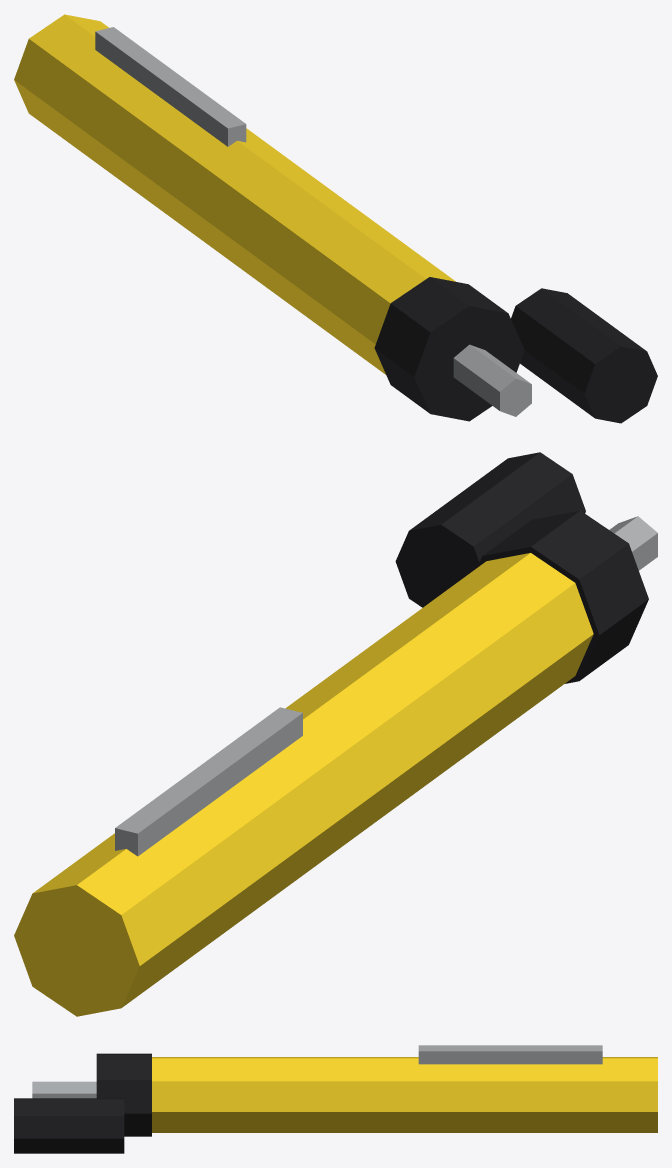
The model's file is dc.fibre-pen.glb.
The picture shows the model from 3 angles, top to bottom: view 1: azimuth 30°, elevation 25°; view 2: azimuth 150°, elevation 25°; view 3: azimuth 270°, elevation 25°; orthographic projection. The views are drawn at different scales.
Visible parts, largest first — view 1: body, collar, cap, clip, tip; view 2: body, cap, collar, clip, tip; view 3: body, cap, clip, collar, tip.
Boxes of the visible parts, x1=… form: body: x1=14, y1=14, x2=455, y2=374; collar: x1=374, y1=277, x2=524, y2=421; cap: x1=511, y1=288, x2=657, y2=423; clip: x1=95, y1=27, x2=246, y2=146; tip: x1=453, y1=344, x2=531, y2=416; body: x1=14, y1=553, x2=593, y2=1016; cap: x1=395, y1=452, x2=585, y2=607; collar: x1=477, y1=510, x2=648, y2=683; clip: x1=115, y1=707, x2=302, y2=856; tip: x1=609, y1=516, x2=657, y2=570; body: x1=152, y1=1057, x2=657, y2=1132; cap: x1=14, y1=1098, x2=124, y2=1153; clip: x1=418, y1=1045, x2=602, y2=1064; collar: x1=96, y1=1053, x2=151, y2=1136; tip: x1=32, y1=1081, x2=96, y2=1098.
Bounding box in the file's own units: 0.04 × 0.026 × 0.175.
